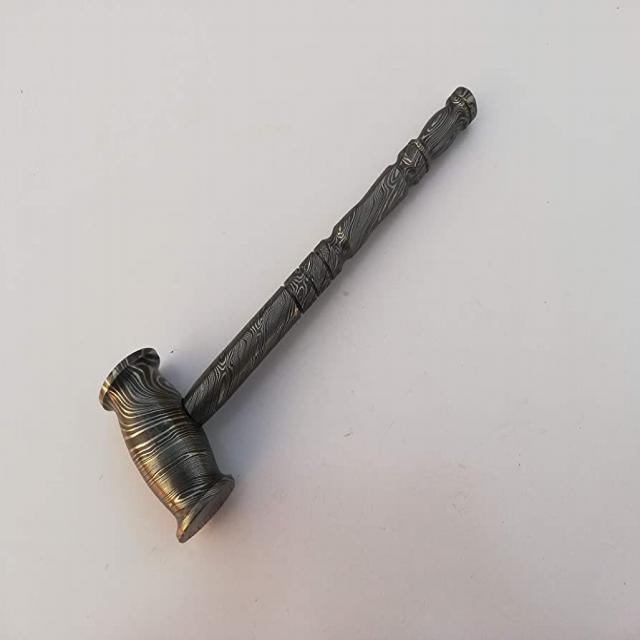hammer: (86, 78, 482, 552)
